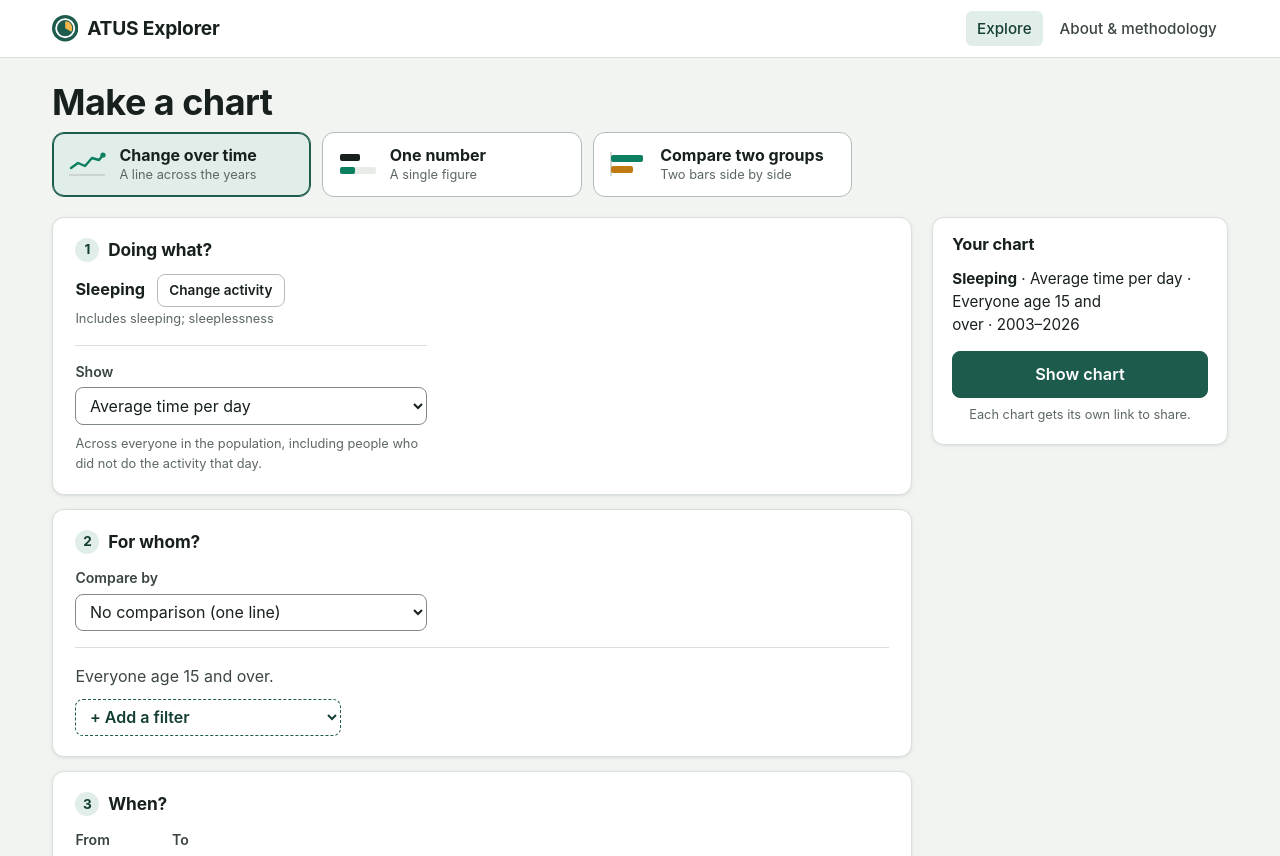
it: a new survey year arrives through /meta alone (§15) › the builder's 2020 note still follows the year
Check: the button "Show chart" is shown, box [952,351,1208,398]
Check: the text "2020 is a partial-year estimate: the survey paused that spring" is not shown
Click the radio button labelled "One number". click: click(452, 164)
box: [322,132,582,197]
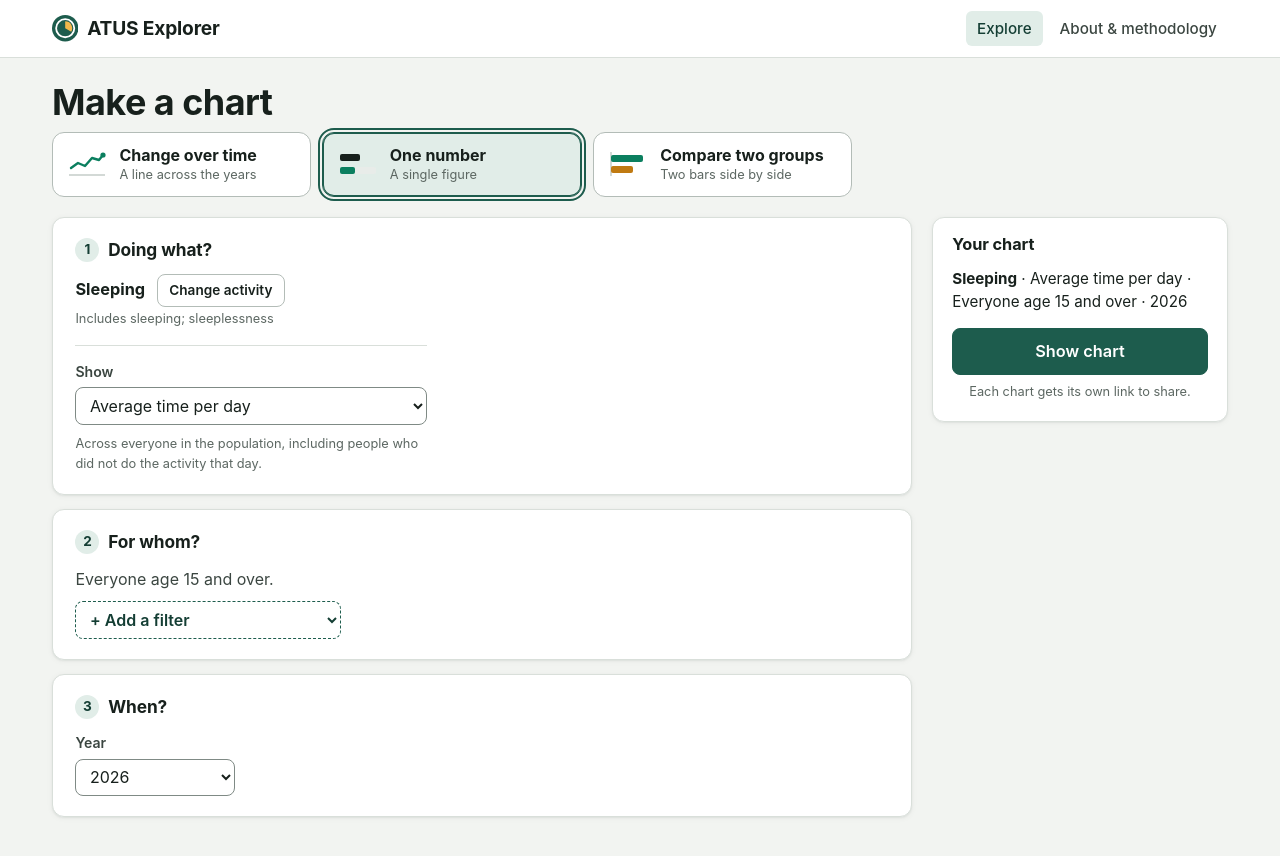
Select "2020" in the dropdown labelled "Year". click: (155, 777)
box: [75,759,235,796]
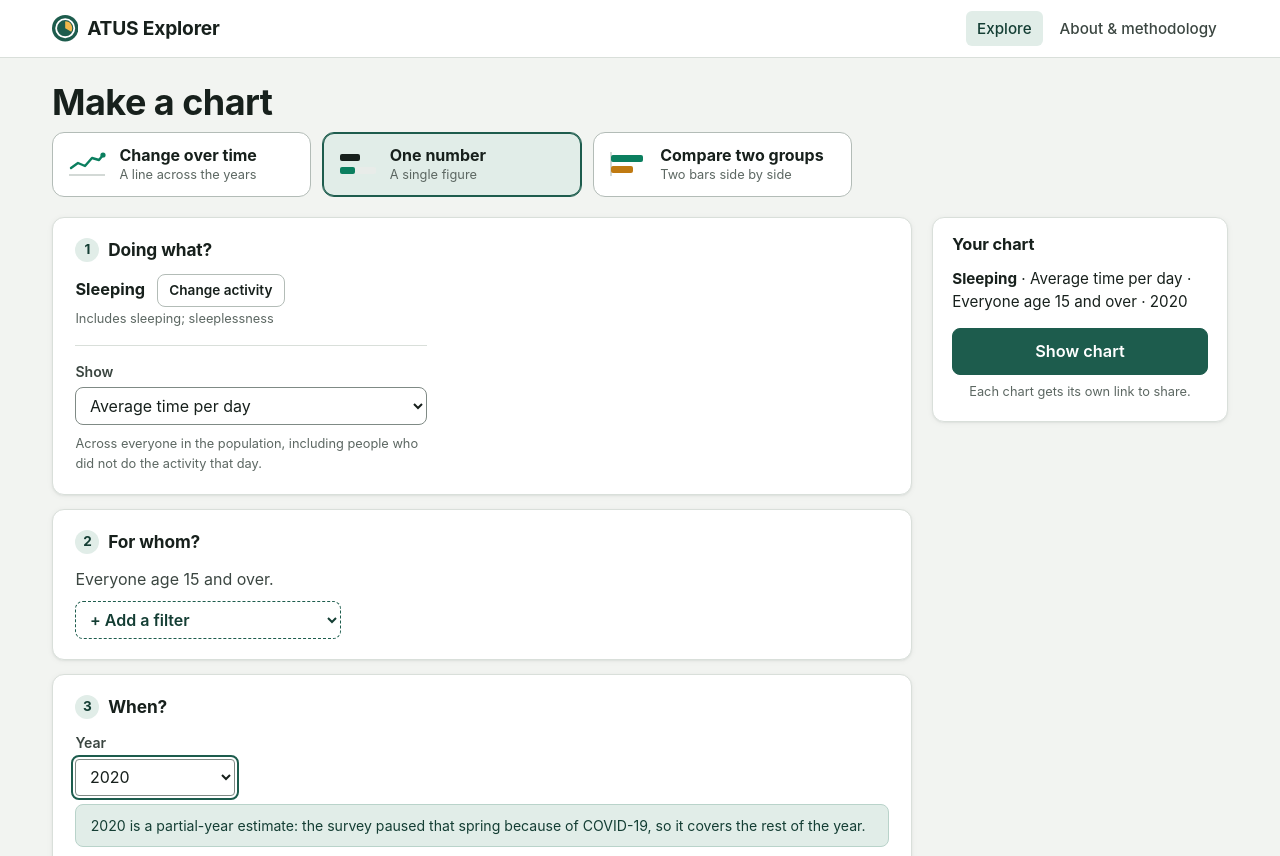
Check: the text "2020 is a partial-year estimate: the survey paused that spring" is shown, box [91,817,866,834]
Select "2026" in the dropdown labelled "Year". click: (155, 777)
box: [75,759,235,796]
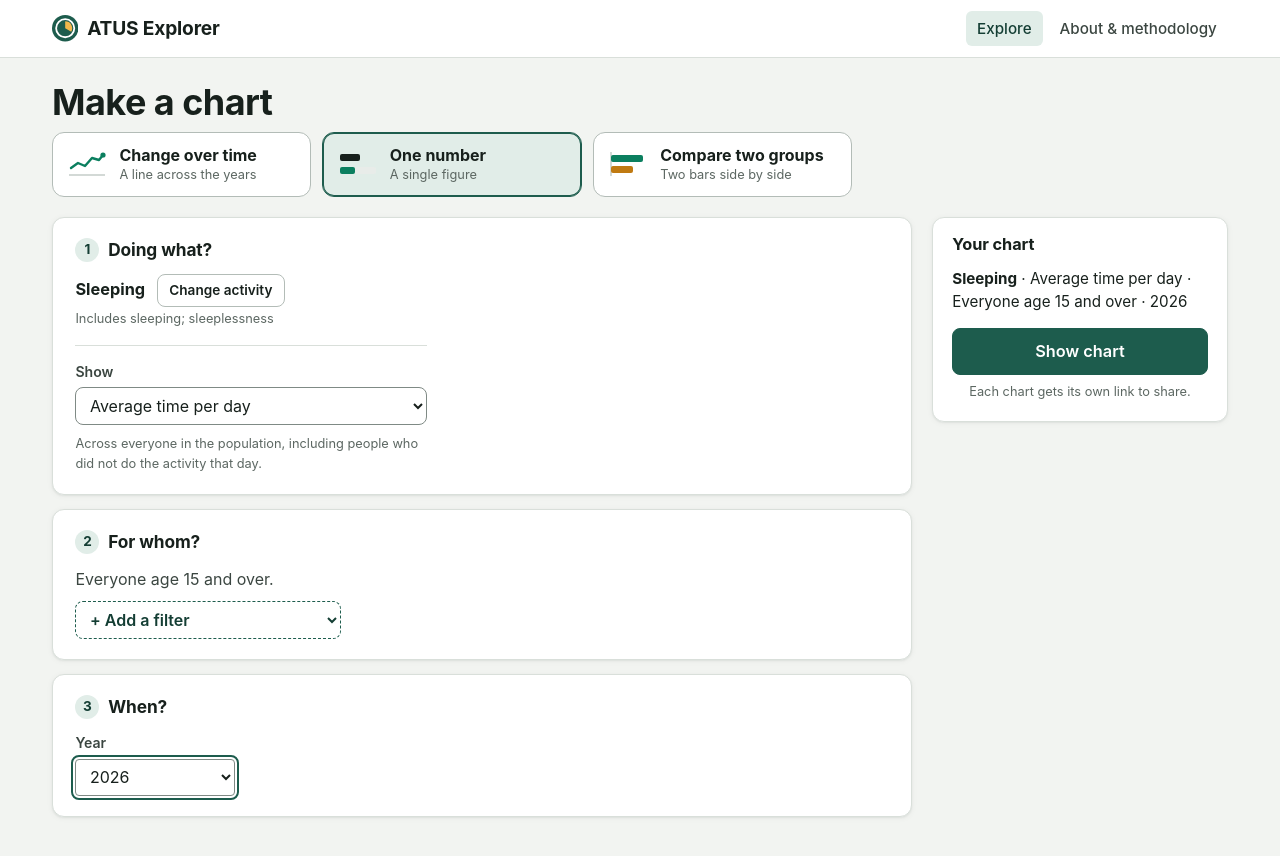
Check: the text "2020 is a partial-year estimate: the survey paused that spring" is gone
